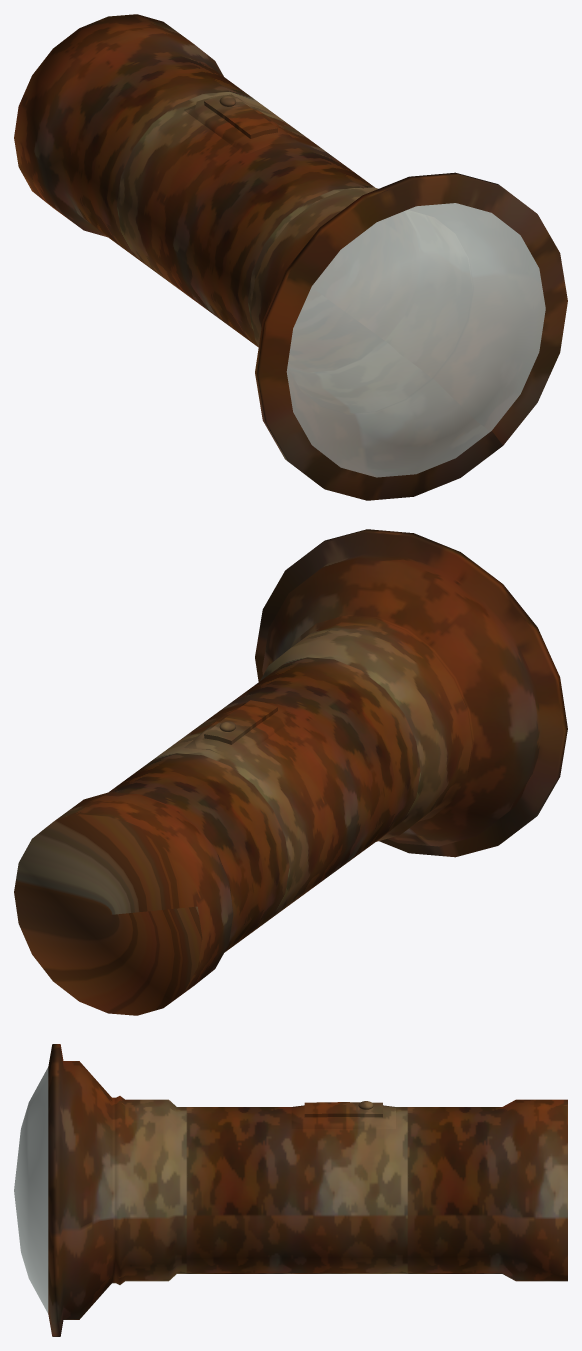
File: flashlight.fbx
The picture shows the model from 3 angles, top to bottom: view 1: azimuth 30°, elevation 25°; view 2: azimuth 150°, elevation 25°; view 3: azimuth 270°, elevation 25°; orthographic projection. The views are drawn at different scales.
Visible parts, largest first — view 1: polySurface1; view 2: polySurface1; view 3: polySurface1.
Boxes of the visible parts, <box> form: polySurface1: <box>14,14,567,500</box>; polySurface1: <box>14,529,567,1015</box>; polySurface1: <box>14,1044,567,1336</box>.
Size of the model in its own units: 7.17 by 7.03 by 13.23.
